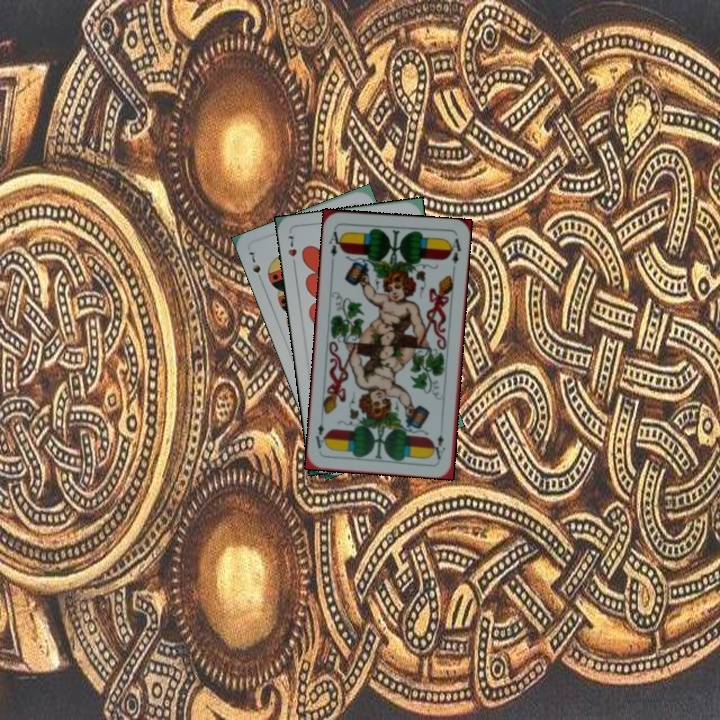EA: (325, 227, 345, 259), (430, 431, 448, 462)
H7: (284, 231, 299, 271)
S7: (245, 247, 265, 285)
